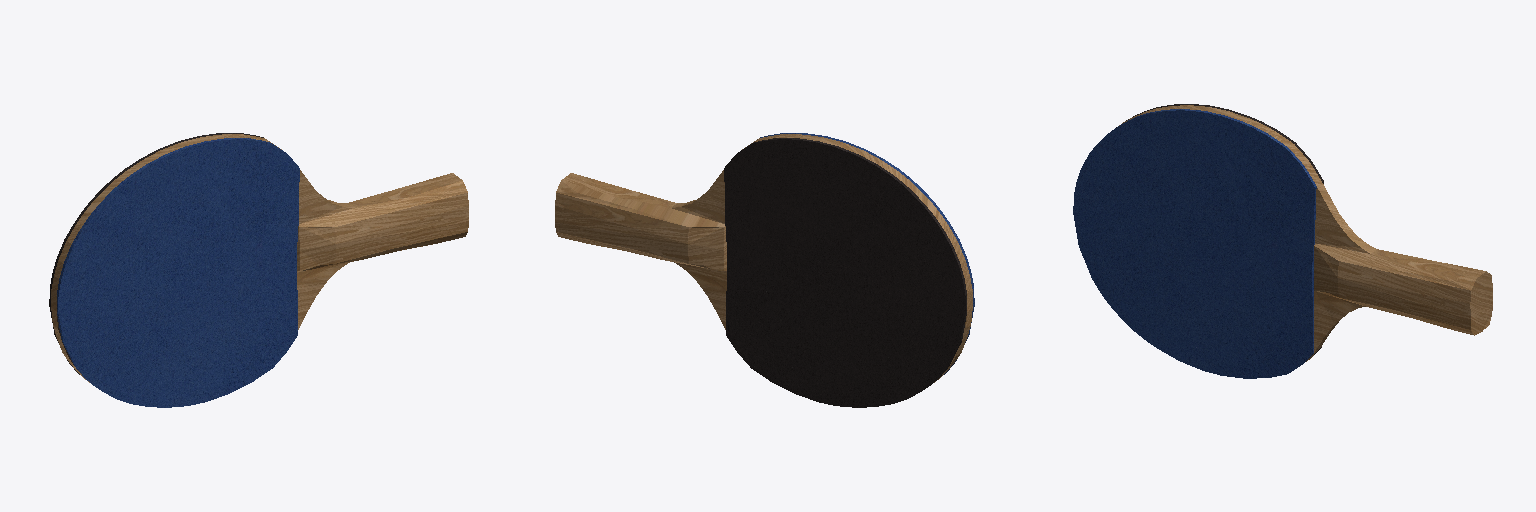
3 views of the same model, side by side, from view 1: azimuth 30°, elevation 25°; view 2: azimuth 150°, elevation 25°; view 3: azimuth 330°, elevation 25° (orthographic).
Parts seen in each view (by area): view 1: ping-pong_paddle_blue; view 2: ping-pong_paddle_blue; view 3: ping-pong_paddle_blue.
Part boxes in pixels (x1,y1,x2,y2): ping-pong_paddle_blue: (49, 133, 468, 407); ping-pong_paddle_blue: (555, 133, 974, 407); ping-pong_paddle_blue: (1073, 104, 1492, 378).
Size of the model in its own units: 0.2391 by 0.1466 by 0.0232.
1 materials, 1 textured.